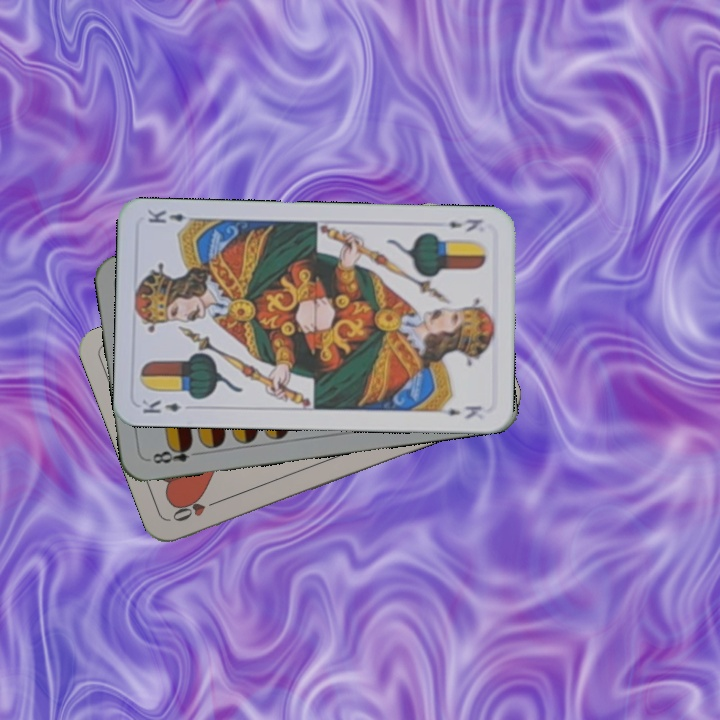E8: (148, 440, 204, 466)
EK: (138, 395, 197, 416), (444, 215, 485, 235)
HO: (168, 495, 224, 525)
